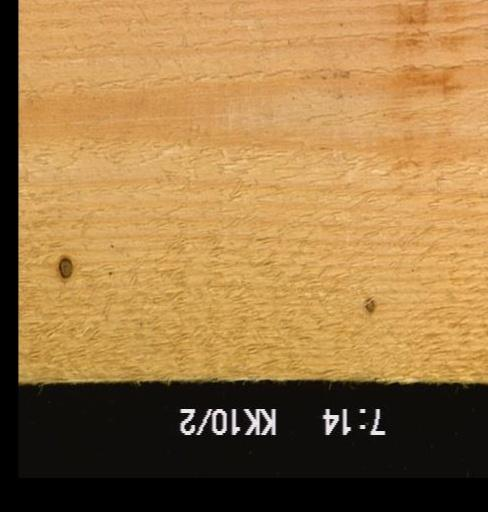dry_knot: (57, 255, 73, 280), (363, 297, 374, 314)
